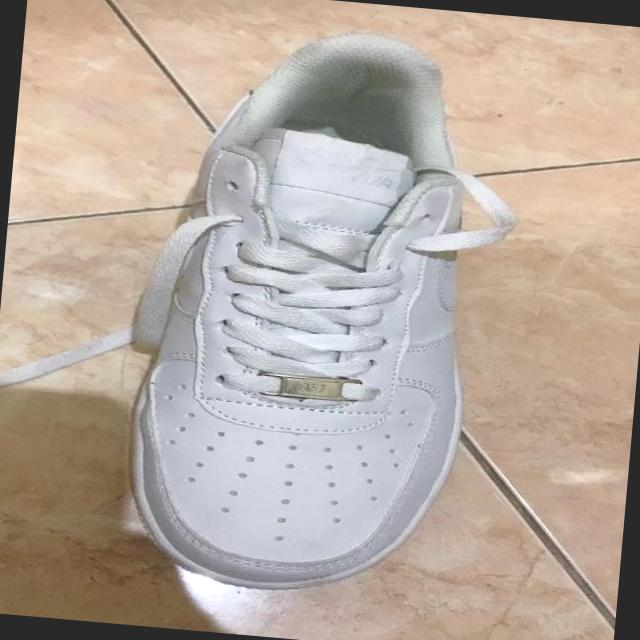nike_fake_airforce: (103, 11, 502, 602)
